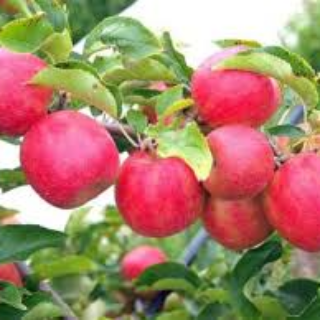tao: (21, 107, 120, 213), (118, 148, 208, 240)
